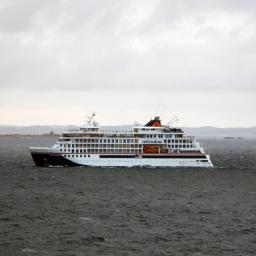cruises: (30, 107, 216, 174)
